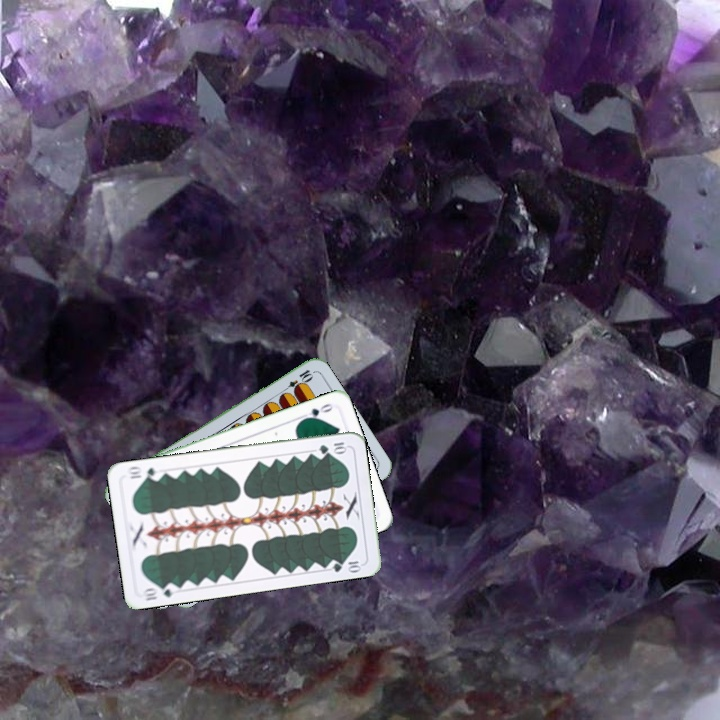E10: (278, 365, 315, 396)
G10: (139, 580, 180, 603), (315, 438, 349, 456)
GO: (296, 399, 336, 424)
